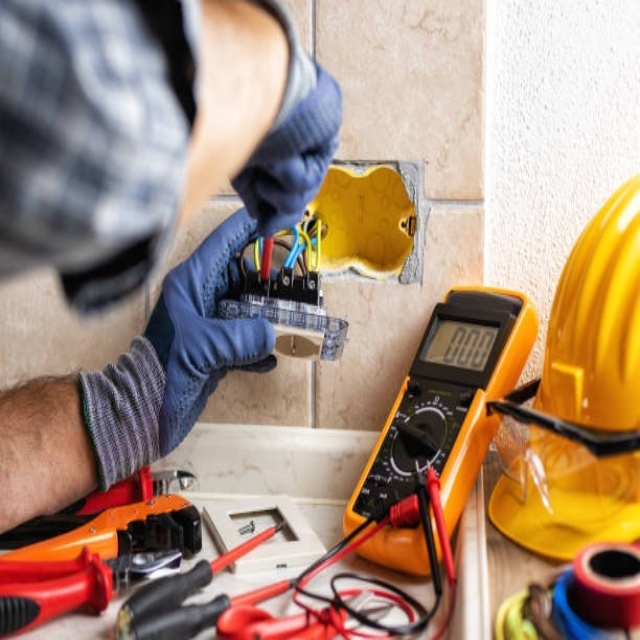Guantes: (145, 204, 283, 460), (228, 44, 344, 244)
